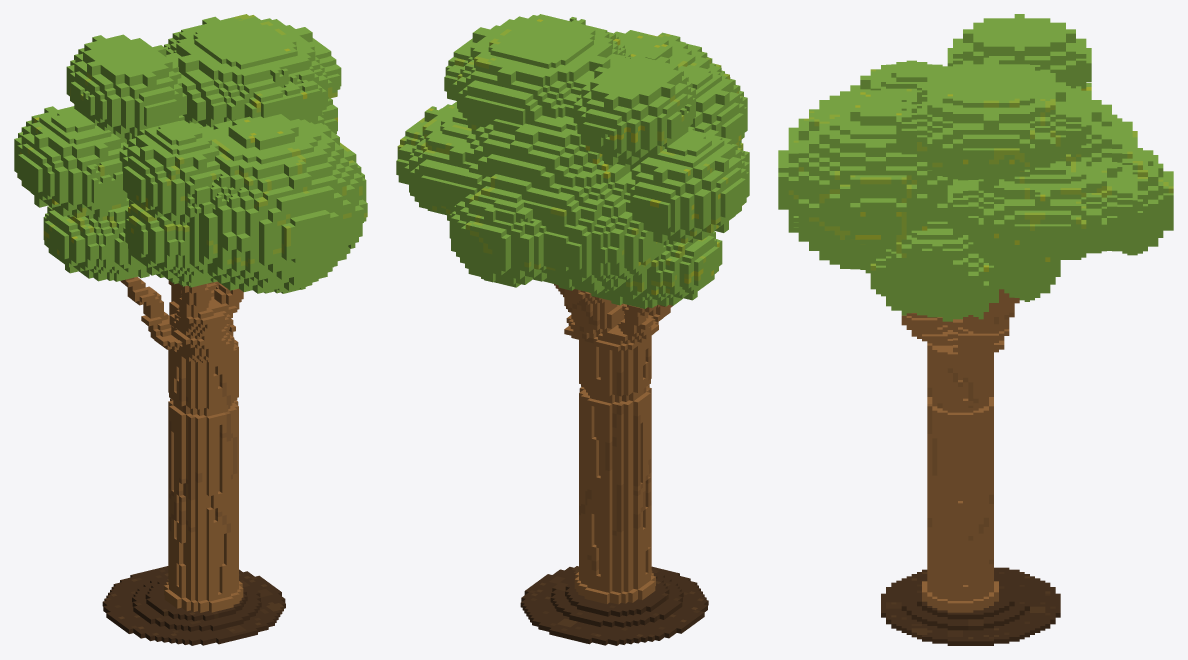
File: 1_3 pitomb.obj
3 views of the same model, side by side, from view 1: azimuth 30°, elevation 25°; view 2: azimuth 150°, elevation 25°; view 3: azimuth 270°, elevation 25° (orthographic). The views are drawn at different scales.
Size of the model in its own units: 6.9 by 11.9 by 7.7.
Materials: 1 (1 with a texture image).
